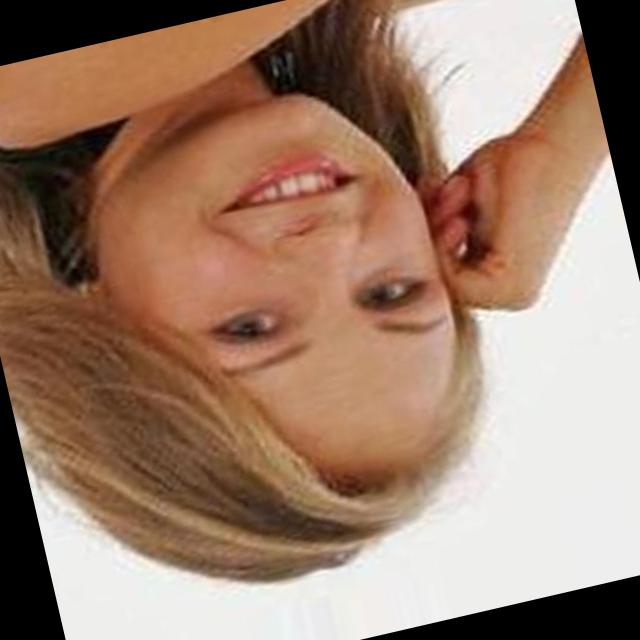bareface: (147, 90, 462, 443)
